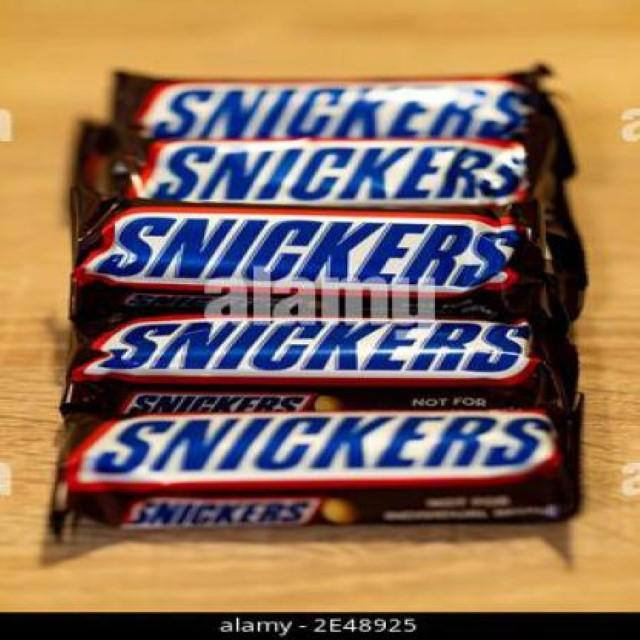snickers_chocolate: (75, 423, 610, 522), (80, 297, 582, 390), (60, 205, 573, 278), (77, 134, 570, 208), (126, 63, 552, 127)
